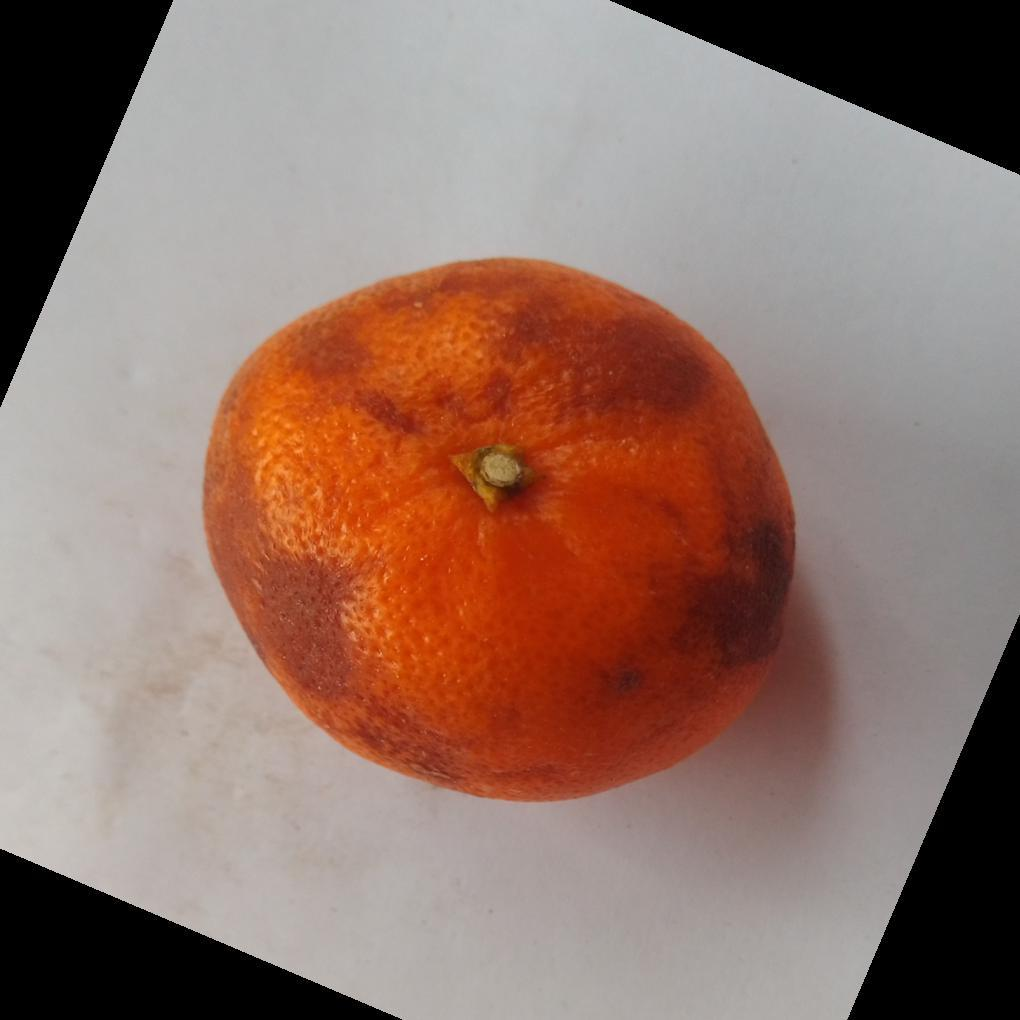FreshOrange: (200, 258, 798, 807)
